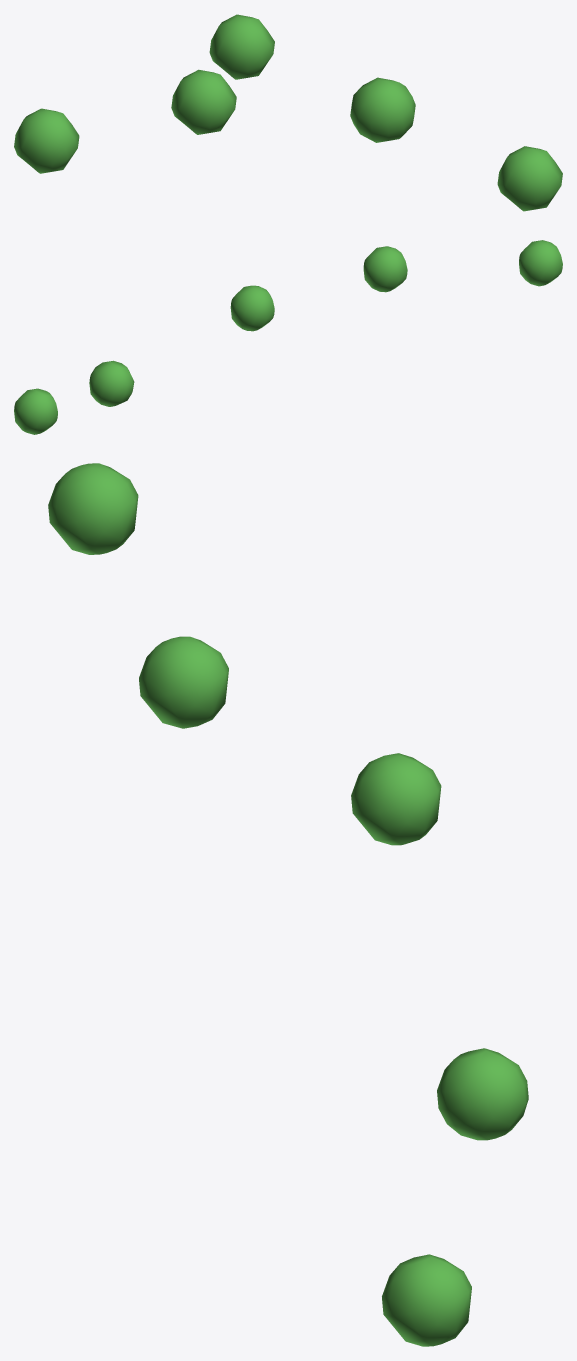
Rendered from linfatico-infraclavicular-nodes-l.glb.
3 renders of one model, top to bottom at view 1: azimuth 30°, elevation 25°; view 2: azimuth 150°, elevation 25°; view 3: azimuth 270°, elevation 25°, orthographic. The views are drawn at different scales.
Parts seen in each view (by area): view 1: Infraclavicular nodes.l; view 2: Infraclavicular nodes.l; view 3: Infraclavicular nodes.l.
Part boxes in pixels (x1,y1,x2,y2): Infraclavicular nodes.l: [14, 14, 562, 211]; Infraclavicular nodes.l: [14, 240, 562, 434]; Infraclavicular nodes.l: [48, 463, 528, 1346].
Size of the model in its own units: 0.0297 by 0.0143 by 0.0134.
